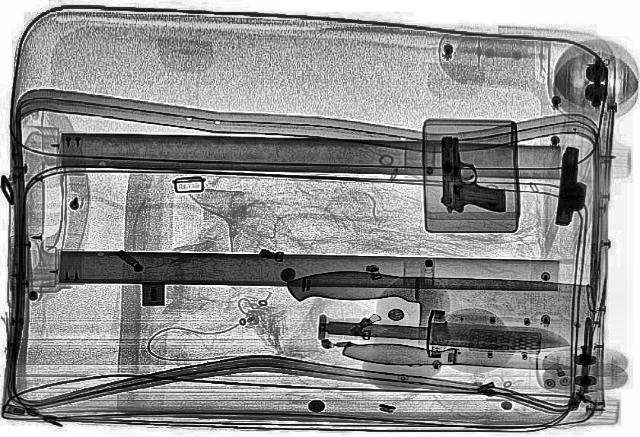Gun: (438, 136, 507, 212), (548, 146, 596, 227)
Knife: (278, 268, 596, 354), (318, 312, 574, 354), (336, 336, 570, 380)
